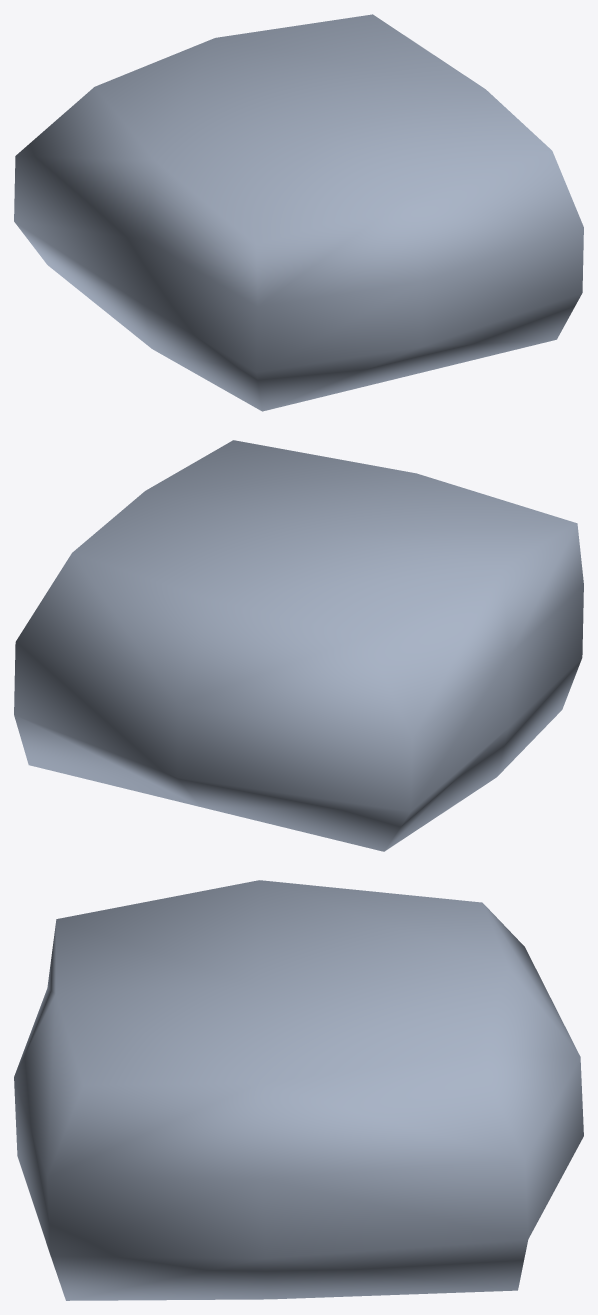
Rendered from S_Boulder_07.fbx.
3 renders of one model, top to bottom at view 1: azimuth 30°, elevation 25°; view 2: azimuth 150°, elevation 25°; view 3: azimuth 270°, elevation 25°, orthographic. The views are drawn at different scales.
Visible parts, largest first — view 1: S_Boulder_07; view 2: S_Boulder_07; view 3: S_Boulder_07.
Part boxes in pixels (<box>): S_Boulder_07: <box>14,14,583,411</box>; S_Boulder_07: <box>14,440,583,851</box>; S_Boulder_07: <box>14,880,583,1300</box>.
Bounding box in the file's own units: 110 × 55.66 × 119.
